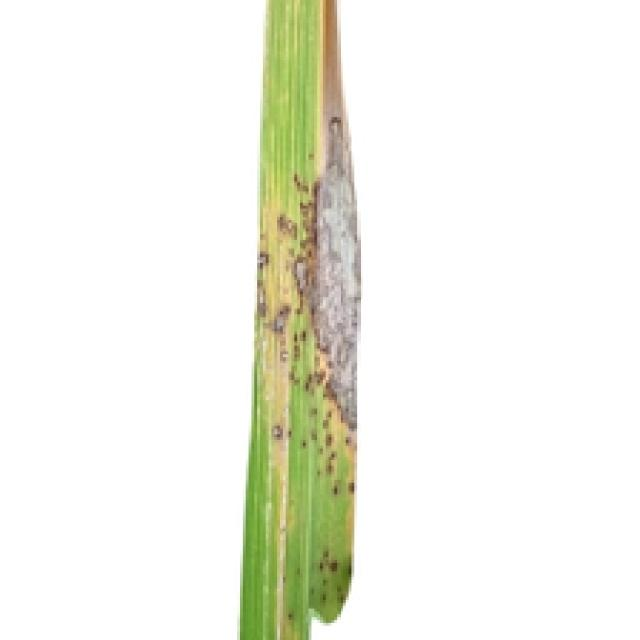Rice___Brown_Spot: (239, 0, 362, 637)
